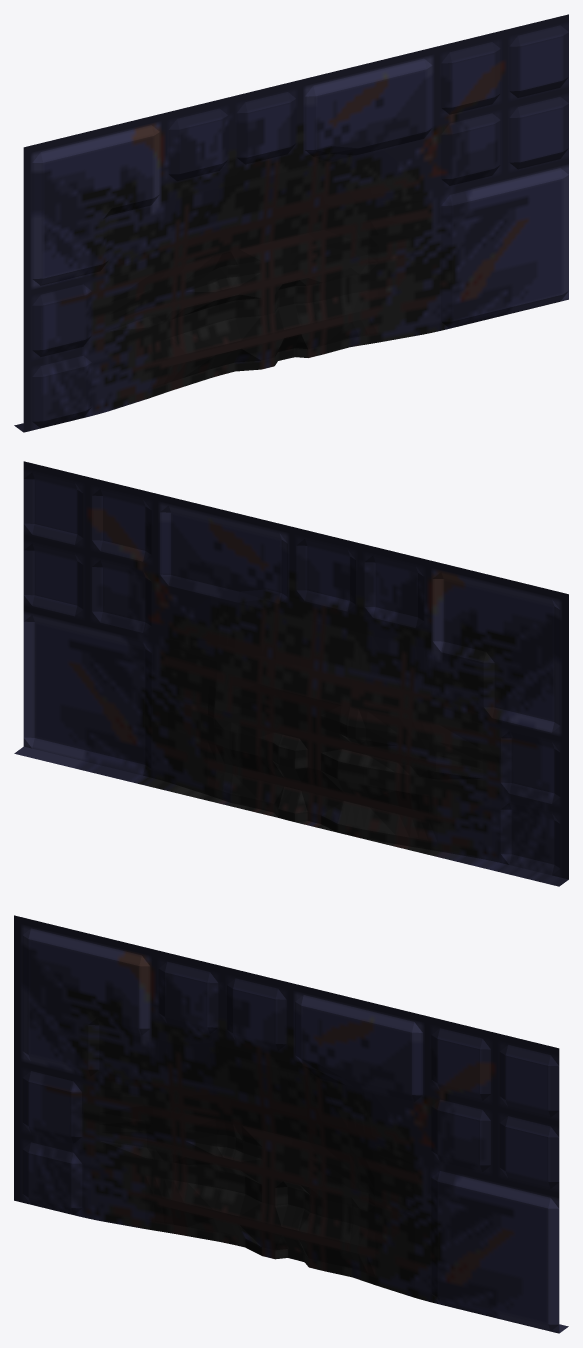
Rendered from med1_7d_slice128.fbx.
3 views of the same model, one above another, from view 1: azimuth 30°, elevation 25°; view 2: azimuth 150°, elevation 25°; view 3: azimuth 330°, elevation 25° (orthographic).
Visible parts, largest first — view 1: med1_7d_mesh; view 2: med1_7d_mesh; view 3: med1_7d_mesh.
Boxes of the visible parts, x1,y1,x2,y2 form: med1_7d_mesh: (14, 14, 568, 432); med1_7d_mesh: (14, 461, 568, 886); med1_7d_mesh: (14, 915, 568, 1333).
Bounding box in the file's own units: 256 × 128 × 10.
